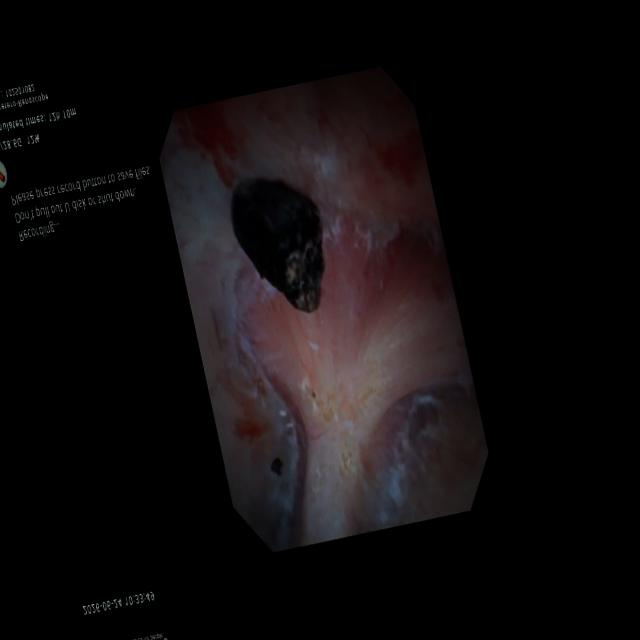stone-new: (231, 180, 324, 312), (271, 458, 282, 476)
